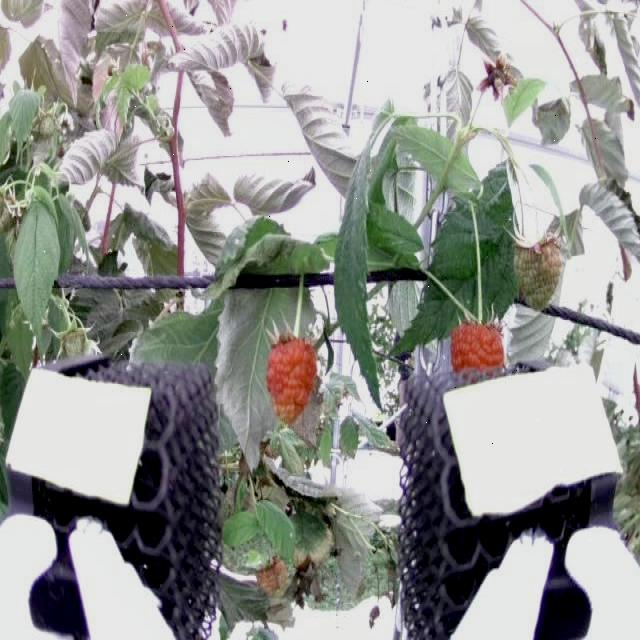Riped berries: (264, 332, 322, 419), (448, 314, 507, 374)
